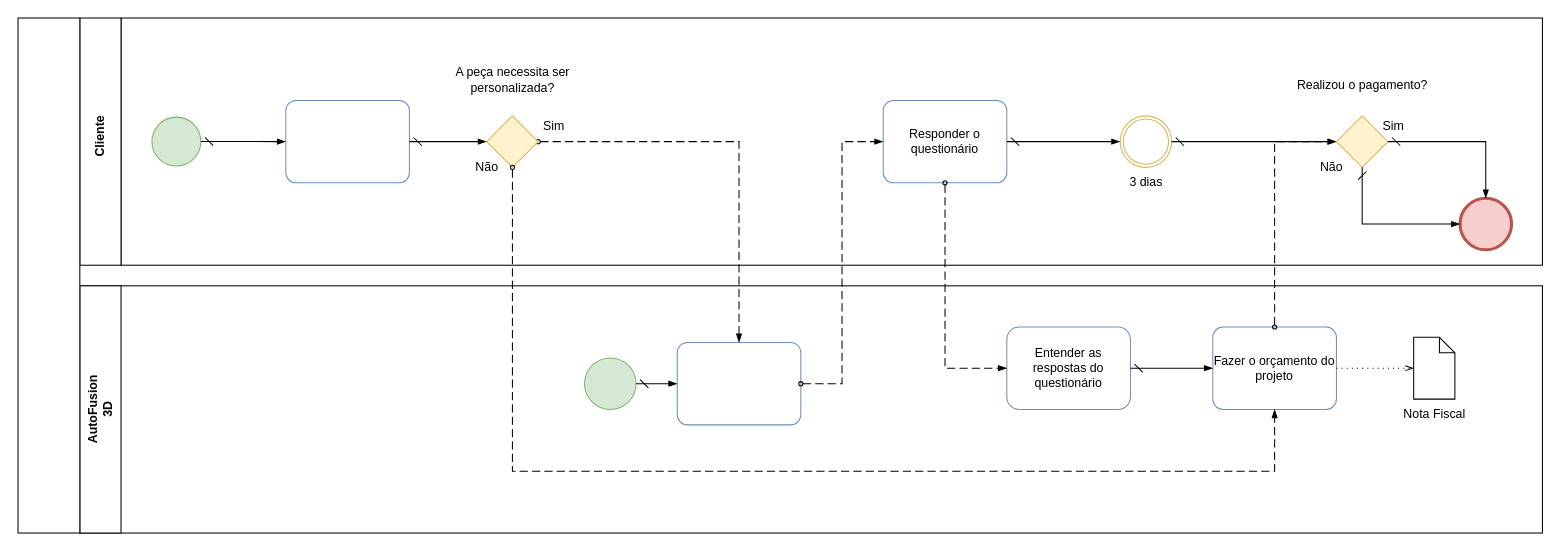
Image size: 1560x551. Some labels were removed from this diagram. Here are the shapes that lost their labels. From the top down, the centre of each, then its label:
point (347, 141): Visualizar o catálogo
point (48, 275): Solicitação de Serviço
point (738, 383): Enviar questionário
